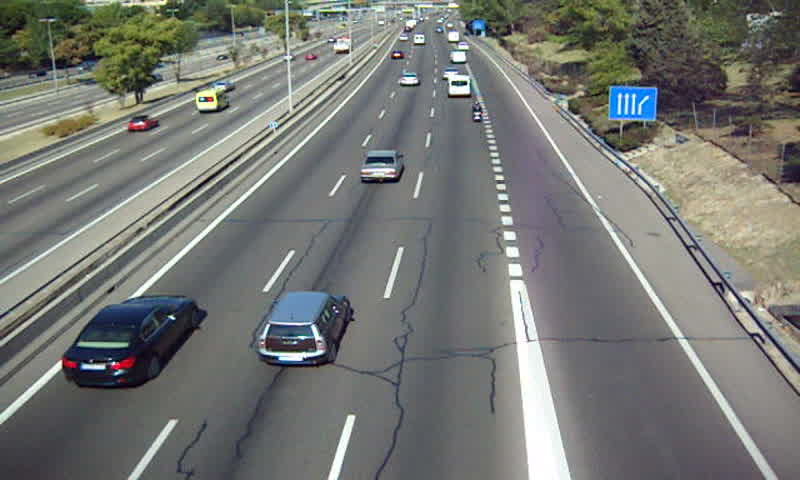car: (60, 296, 196, 388), (259, 292, 347, 368), (359, 149, 402, 183), (399, 72, 419, 87), (442, 67, 458, 80)
motorcycle: (472, 100, 484, 122)
van: (448, 73, 471, 96), (451, 52, 468, 64)
